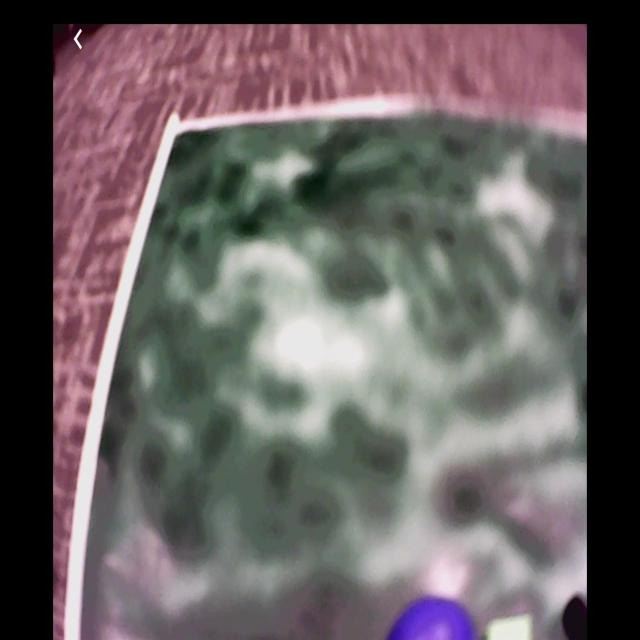ball: (384, 600, 476, 640)
